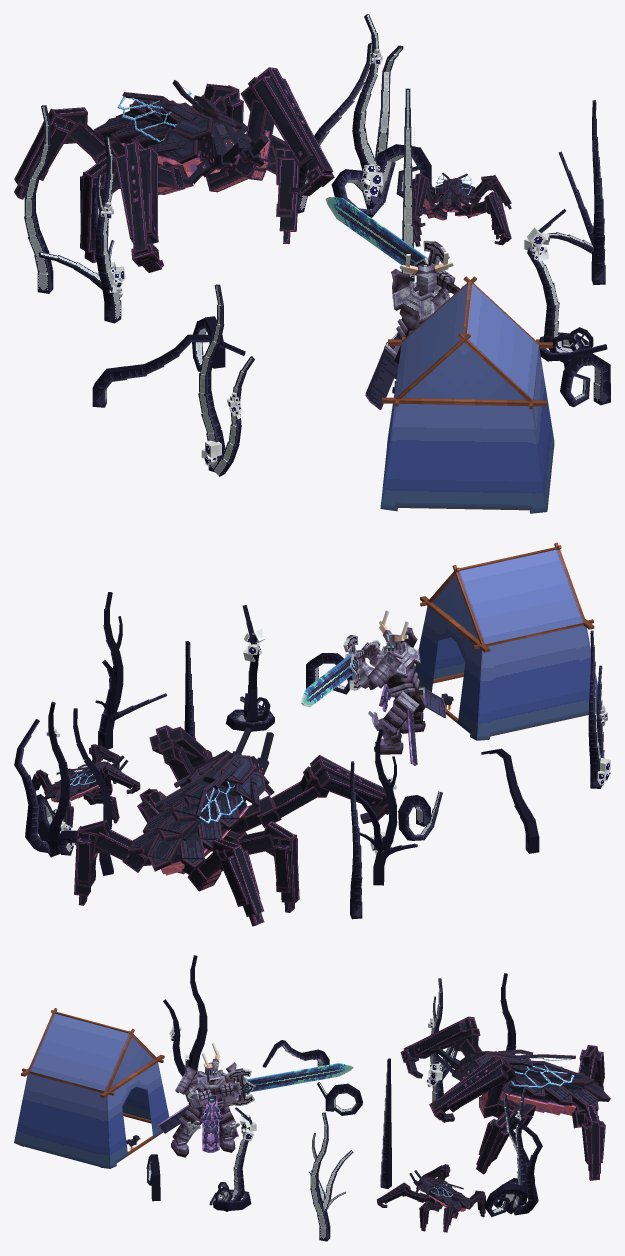
The model's file is evershapes_scene3.gltf.
The picture shows the model from 3 angles, top to bottom: view 1: azimuth 30°, elevation 25°; view 2: azimuth 150°, elevation 25°; view 3: azimuth 270°, elevation 25°; orthographic projection. The views are drawn at different scales.
Visible parts, largest first — view 1: cube (×21); view 2: cube (×22); view 3: cube (×15).
Part boxes in pixels (x1,y1,x2,y2): cube (×21): (14,67,553,513); cube (×22): (76,549,597,916); cube (×15): (14,1013,600,1174).
Bounding box in the file's own units: 17.91 × 6.63 × 26.35.
Materials: 5 (5 with a texture image).
